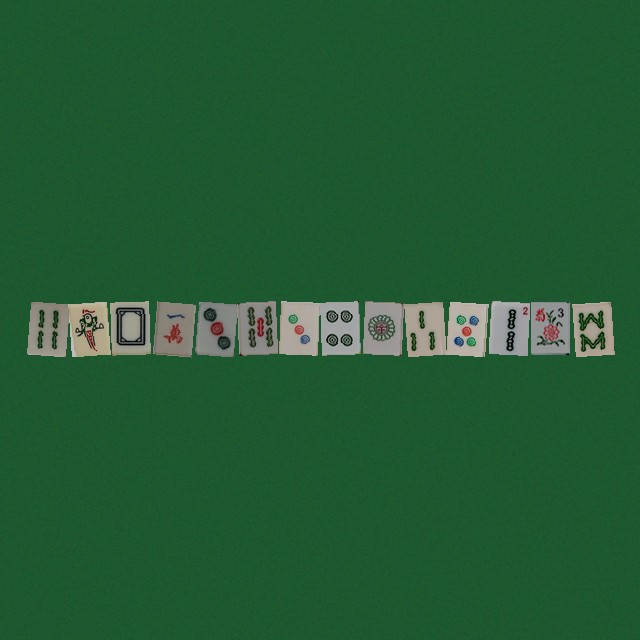tile: (26, 301, 65, 354), (68, 301, 107, 354), (110, 301, 149, 354), (152, 301, 191, 354), (194, 301, 233, 354), (236, 301, 275, 354), (278, 301, 317, 354), (320, 301, 359, 354), (362, 301, 401, 354), (404, 301, 443, 354), (446, 301, 485, 354), (488, 301, 527, 354), (530, 301, 569, 354), (572, 301, 611, 354)
